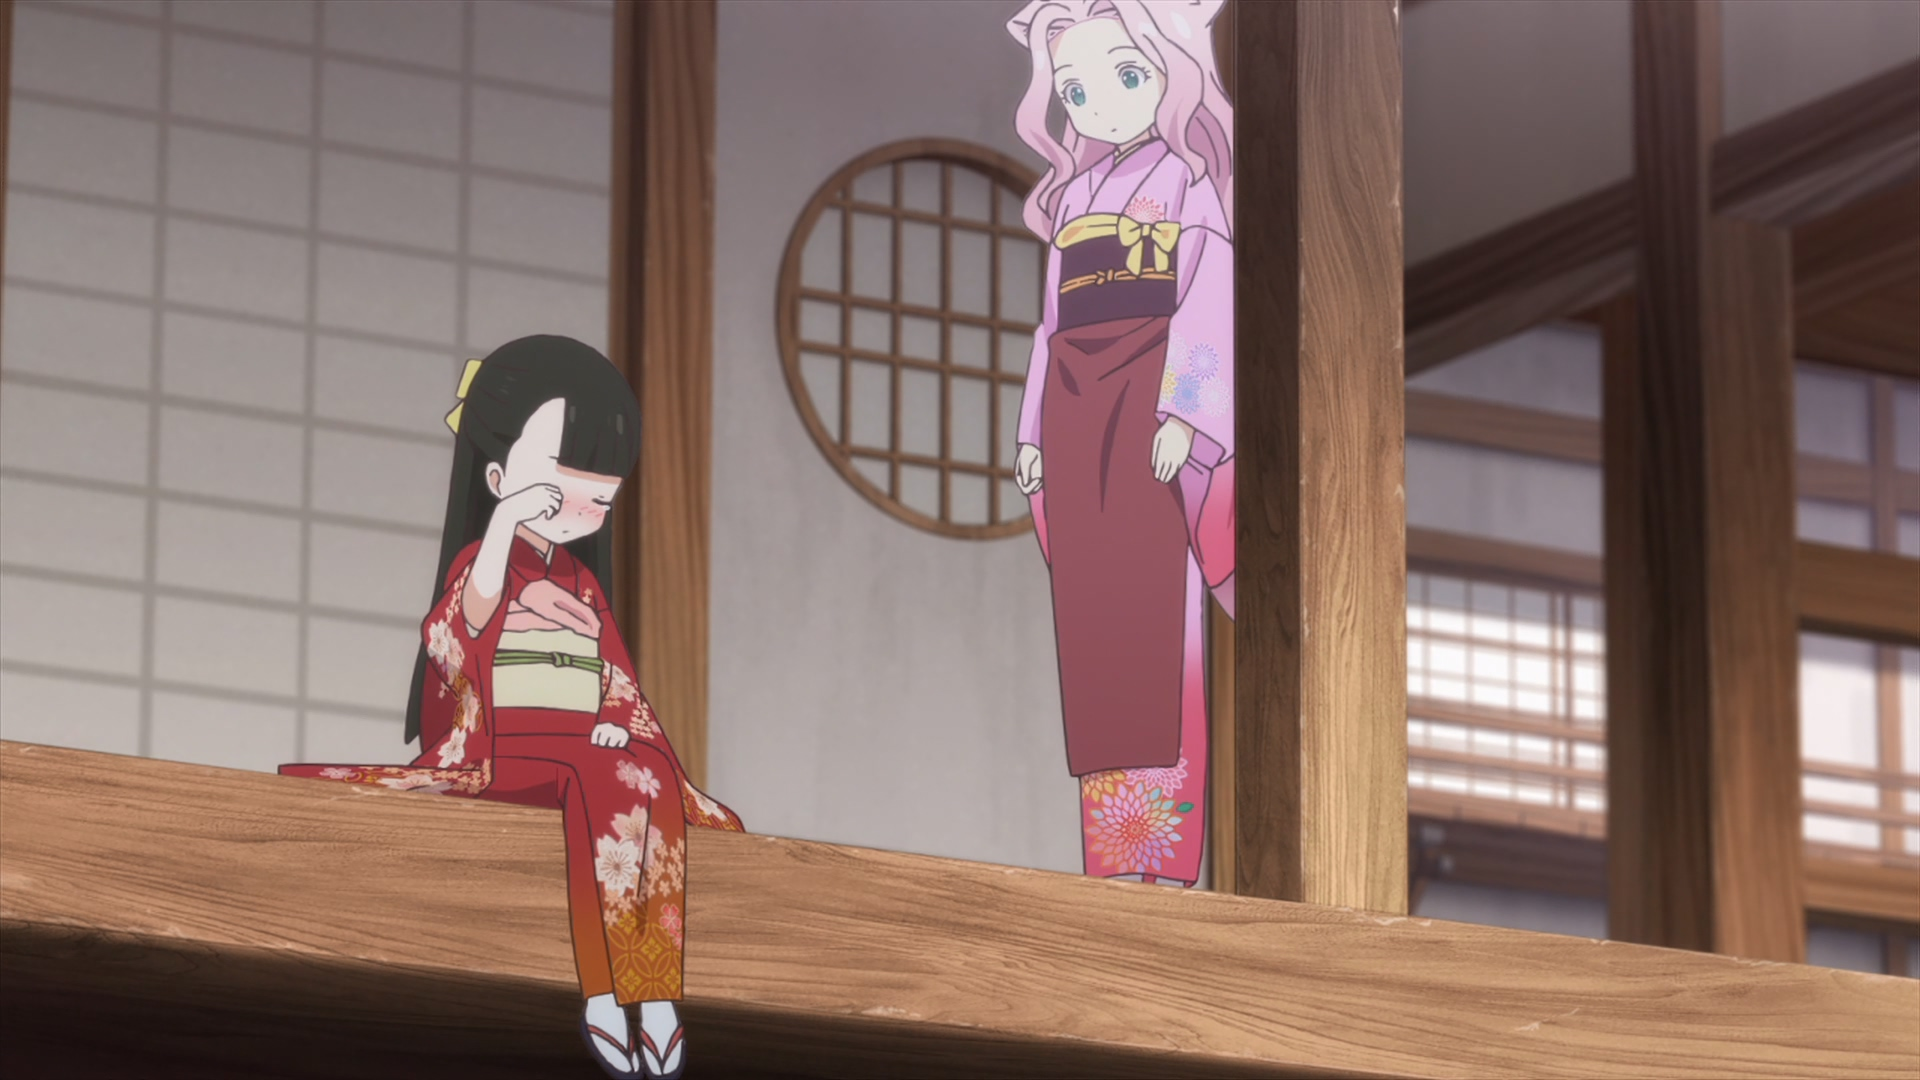其他: (277, 334, 742, 1080)
莲: (1004, 1, 1234, 887)
